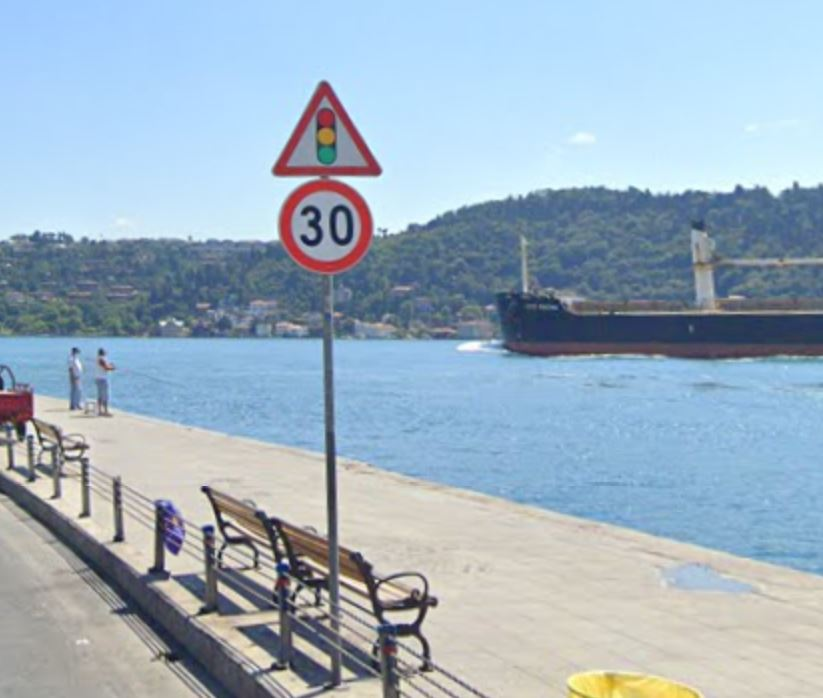30 Km Hiz Siniri: (283, 182, 379, 273)
Trafikisiklari: (272, 79, 393, 176)
